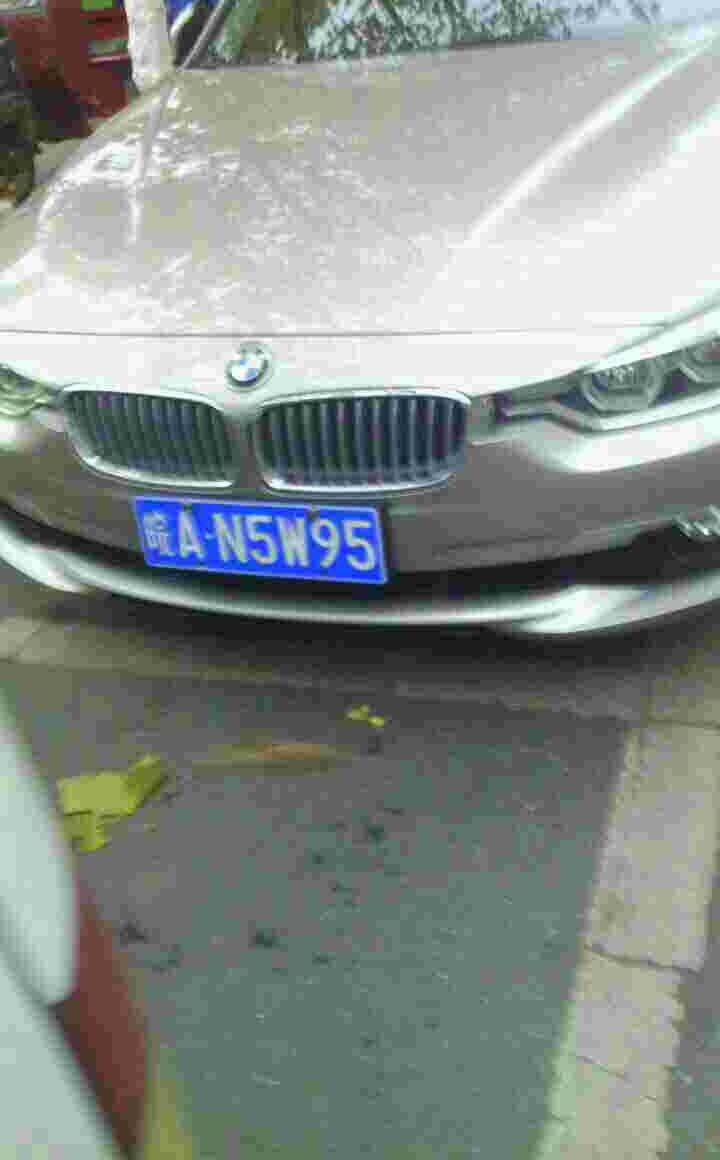license_plate: (133, 493, 377, 586)
